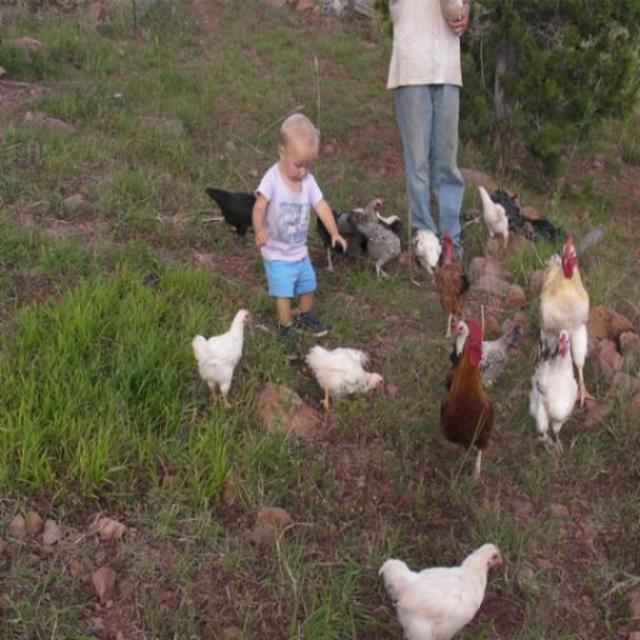Chicken: (377, 544, 503, 639), (539, 237, 593, 404), (442, 317, 491, 476), (302, 347, 389, 413), (532, 327, 579, 447), (192, 313, 250, 408), (433, 235, 467, 337), (207, 187, 254, 237), (477, 186, 511, 249)
